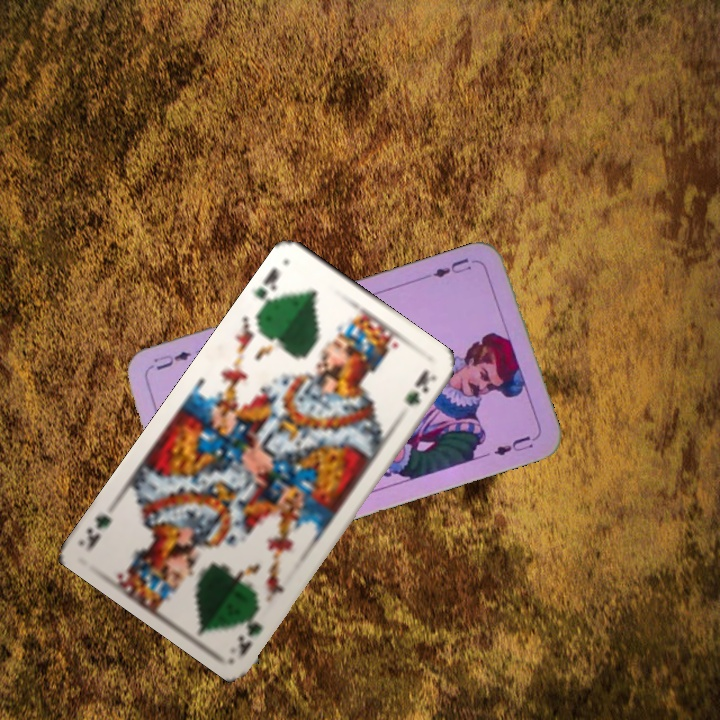EU: (422, 254, 474, 281)
GK: (234, 602, 265, 659), (250, 263, 282, 316)
